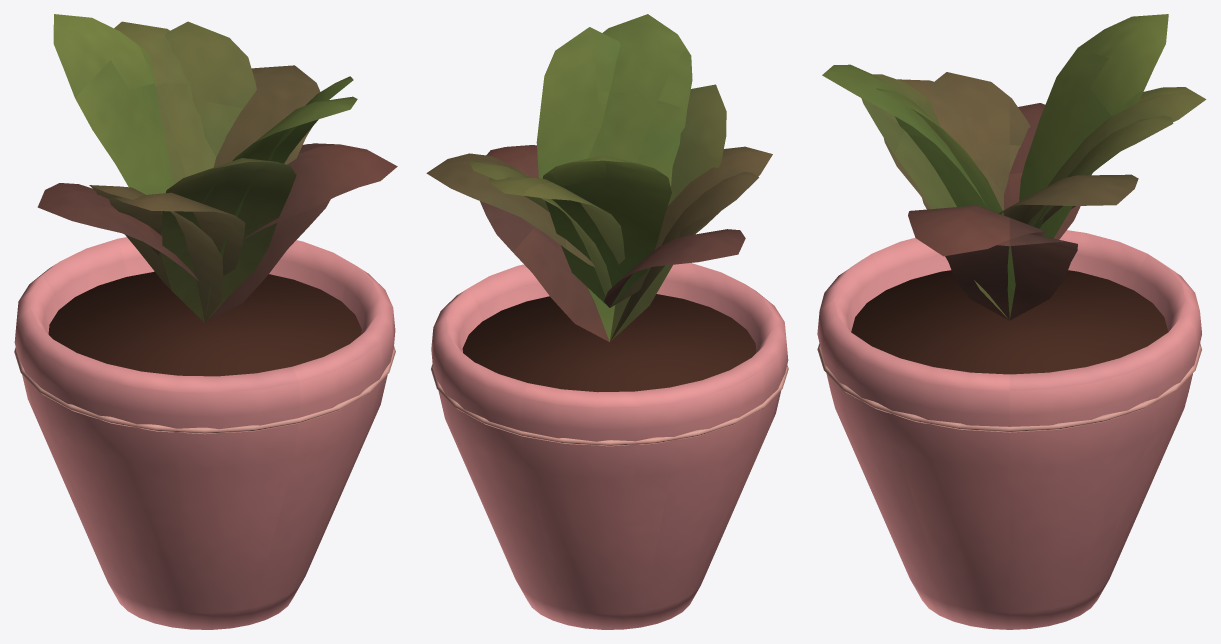
The model's file is WC_CAFE_Planter_Table_A.glb.
3 views of the same model, side by side, from view 1: azimuth 30°, elevation 25°; view 2: azimuth 150°, elevation 25°; view 3: azimuth 270°, elevation 25° (orthographic). The views are drawn at different scales.
Visible parts, largest first — view 1: WC_CAFE_Planter_Table_A_DesignedMesh; view 2: WC_CAFE_Planter_Table_A_DesignedMesh; view 3: WC_CAFE_Planter_Table_A_DesignedMesh.
Boxes of the visible parts, x1,y1,x2,y2 form: WC_CAFE_Planter_Table_A_DesignedMesh: (14,14,397,629); WC_CAFE_Planter_Table_A_DesignedMesh: (426,14,788,629); WC_CAFE_Planter_Table_A_DesignedMesh: (817,14,1206,629).
Bounding box in the file's own units: 0.2245 × 0.3492 × 0.227.
Materials: 4 (3 with a texture image).
